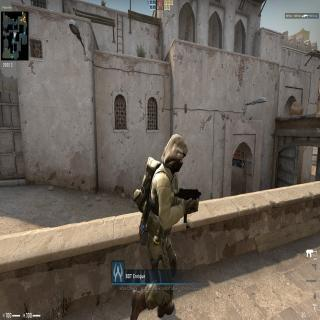CT-Head: (162, 130, 188, 176)
